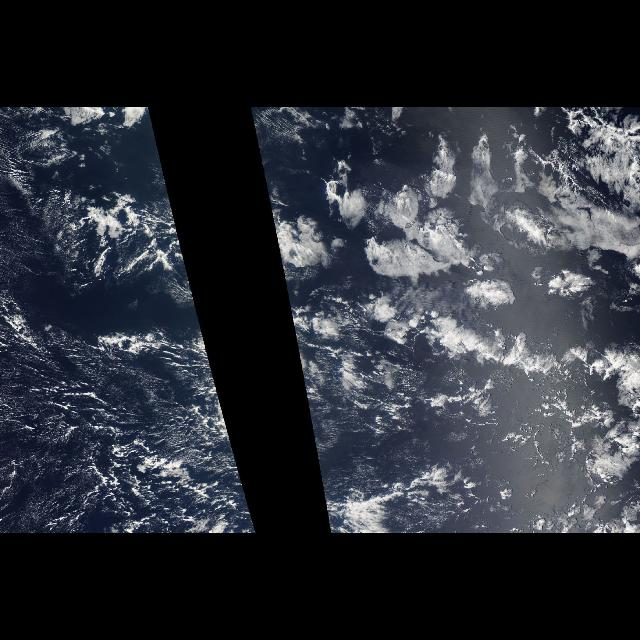Flower: (257, 110, 637, 380)
Gravel: (4, 325, 256, 525), (290, 325, 306, 389)
Sugar: (2, 352, 184, 442)
